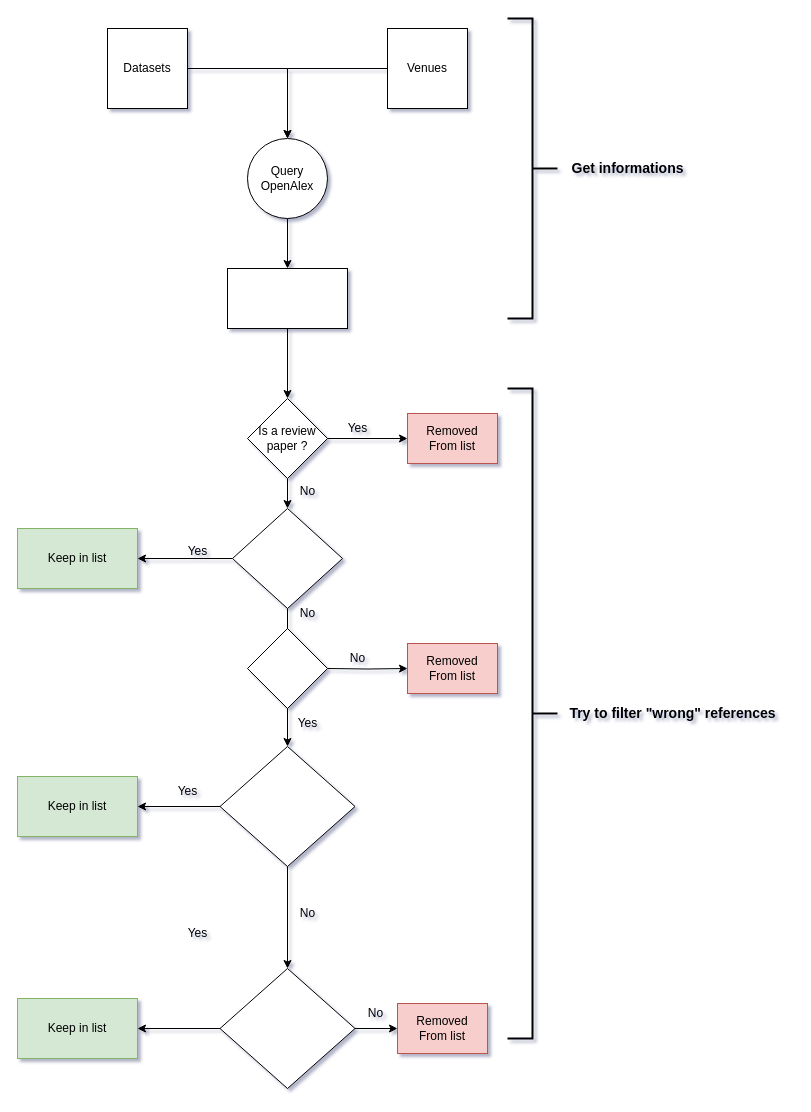
This 811x1112 diagram has some shape labels left out. Each missing label, with the centre of its shape:
"Is dataset in Table ?" goes at (287,806).
"Is dataset name or organ in abstract ?" goes at (287,558).
"Is dataset's organ in figures ?" goes at (287,1028).
"Is fulltext available ?" goes at (287,668).
"List of paper from venue referencing at least one dataset" goes at (287,298).
